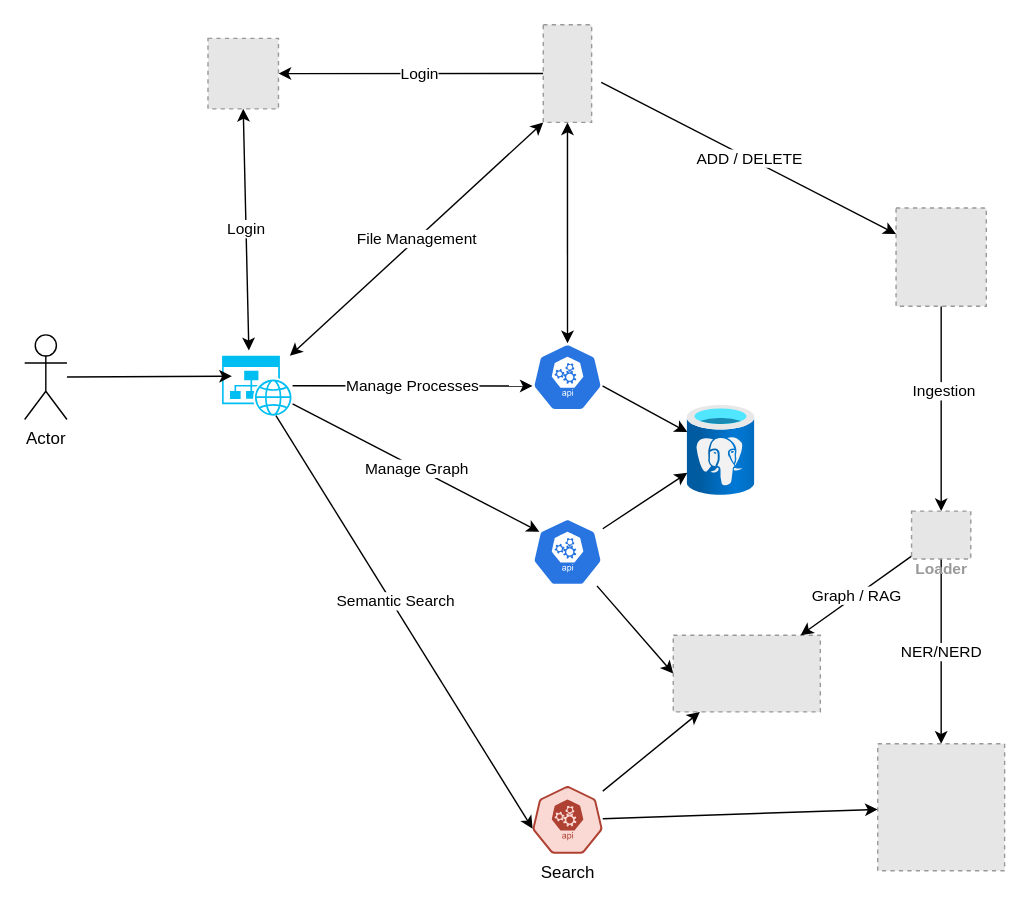
This 1029x908 diagram has some shape labels left out. Grey dashed boxes stand in for pictures. Here are the shapes that lost their labels. From the top down, the box of each, then its label:
(531, 342, 603, 411): Vault
(531, 517, 603, 586): Graph
